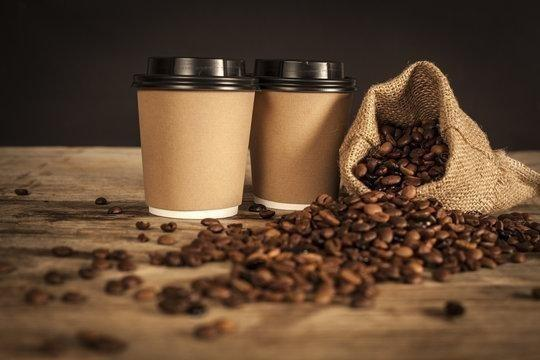cup-disposable: (129, 51, 258, 223), (249, 54, 358, 215)
